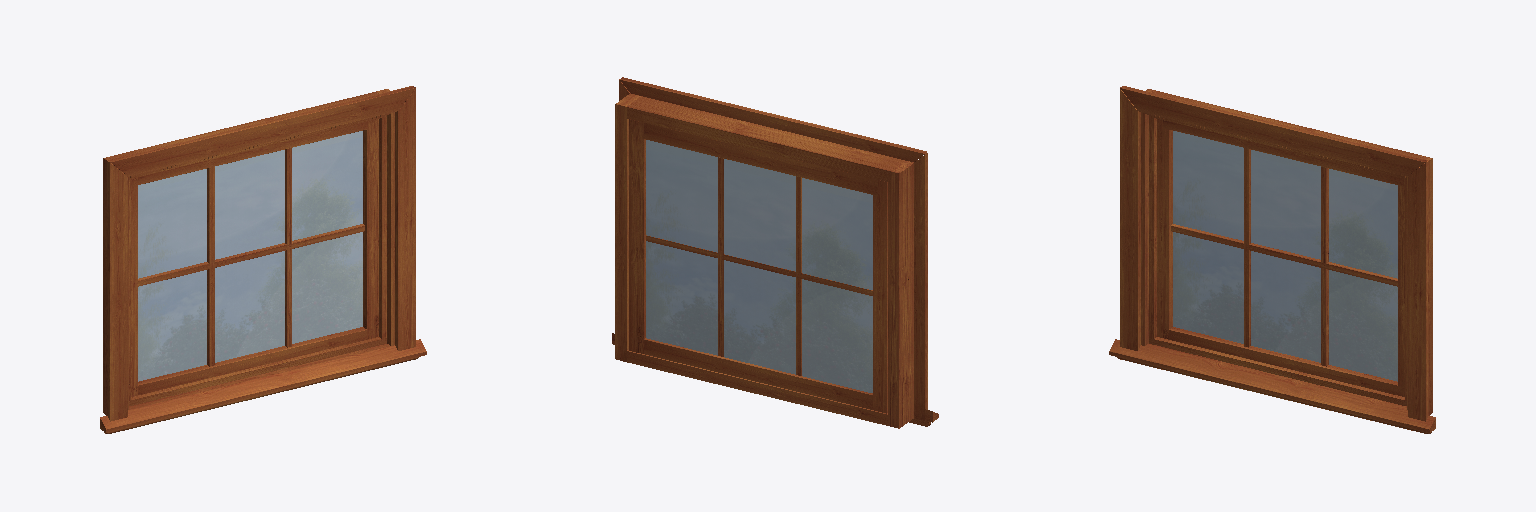
3 renders of one model, left to right at view 1: azimuth 30°, elevation 25°; view 2: azimuth 150°, elevation 25°; view 3: azimuth 330°, elevation 25°, orthographic.
Visible parts, largest first — view 1: glass, trim_top, sill, trim_left, trim_right, window_right, window_bottom, stop_bottom, stop_left, box_right, window_top, muttin_horizontal (+5 smaller); view 2: glass, box_top, box_left, trim_top, window_right, window_bottom, window_top, box_right, trim_left, window_left, sill, muttin_horizontal (+2 smaller); view 3: glass, trim_top, sill, trim_right, trim_left, window_left, window_bottom, stop_bottom, stop_left, box_left, window_top, muttin_horizontal (+5 smaller).
Boxes of the visible parts, <box> form: glass: <box>138,131,362,381</box>; trim_top: <box>108,86,415,176</box>; sill: <box>100,339,426,432</box>; trim_left: <box>107,161,127,421</box>; trim_right: <box>395,89,415,350</box>; window_right: <box>363,119,378,339</box>; window_bottom: <box>132,327,372,394</box>; stop_bottom: <box>129,337,386,405</box>; stop_left: <box>129,117,386,400</box>; box_right: <box>377,89,394,345</box>; window_top: <box>132,120,372,185</box>; muttin_horizontal: <box>138,224,364,286</box>; glass: <box>646,140,872,392</box>; box_top: <box>627,96,905,182</box>; box_left: <box>888,160,913,428</box>; trim_top: <box>620,77,926,162</box>; window_right: <box>629,119,645,353</box>; window_bottom: <box>638,338,877,409</box>; window_top: <box>644,123,877,195</box>; box_right: <box>615,93,640,361</box>; trim_left: <box>914,153,927,420</box>; window_left: <box>873,180,887,413</box>; sill: <box>612,333,938,425</box>; muttin_horizontal: <box>646,235,872,295</box>; glass: <box>1173,131,1397,381</box>; trim_top: <box>1120,86,1427,176</box>; sill: <box>1109,339,1435,432</box>; trim_right: <box>1408,161,1428,421</box>; trim_left: <box>1120,89,1140,350</box>; window_left: <box>1157,119,1172,339</box>; window_bottom: <box>1163,327,1403,395</box>; stop_bottom: <box>1149,337,1406,405</box>; stop_left: <box>1149,117,1406,400</box>; box_left: <box>1141,89,1158,345</box>; window_top: <box>1163,120,1403,186</box>; muttin_horizontal: <box>1171,224,1397,286</box>.
Bounding box in the file's own units: 44 × 35.73 × 5.
7 materials, 7 textured.